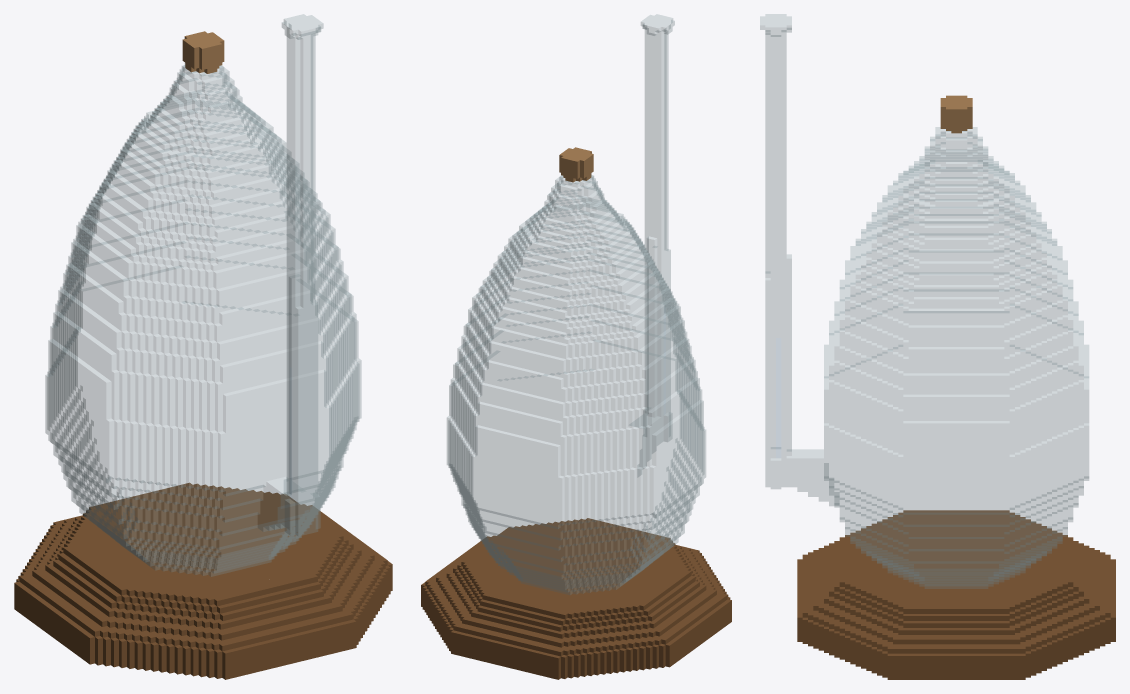
File: weather_glass.glb
3 views of the same model, side by side, from view 1: azimuth 30°, elevation 25°; view 2: azimuth 150°, elevation 25°; view 3: azimuth 270°, elevation 25° (orthographic). The views are drawn at different scales.
Visible parts, largest first — view 1: weather_glass:compound; view 2: weather_glass:compound; view 3: weather_glass:compound.
Boxes of the visible parts, box(x1,y1,x2,y2) form: weather_glass:compound: box(14, 14, 392, 679); weather_glass:compound: box(421, 14, 731, 679); weather_glass:compound: box(760, 14, 1115, 679).
Bounding box in the file's own units: 0.24 × 0.492 × 0.268.
